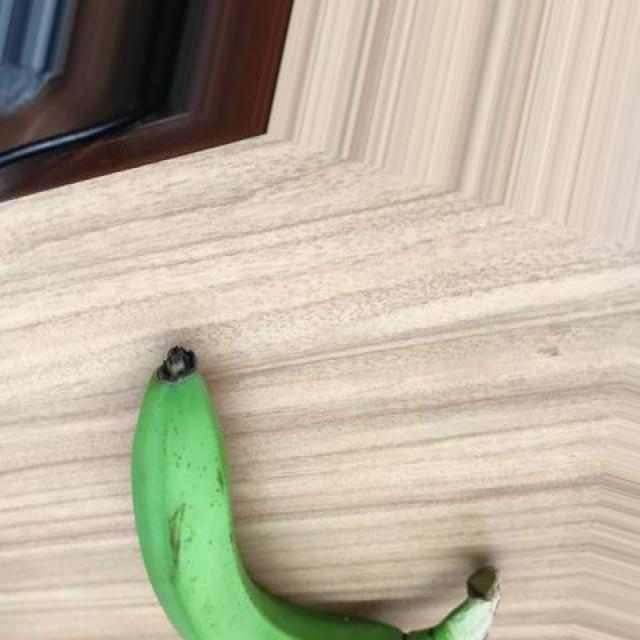Unripe: (129, 344, 505, 640)
